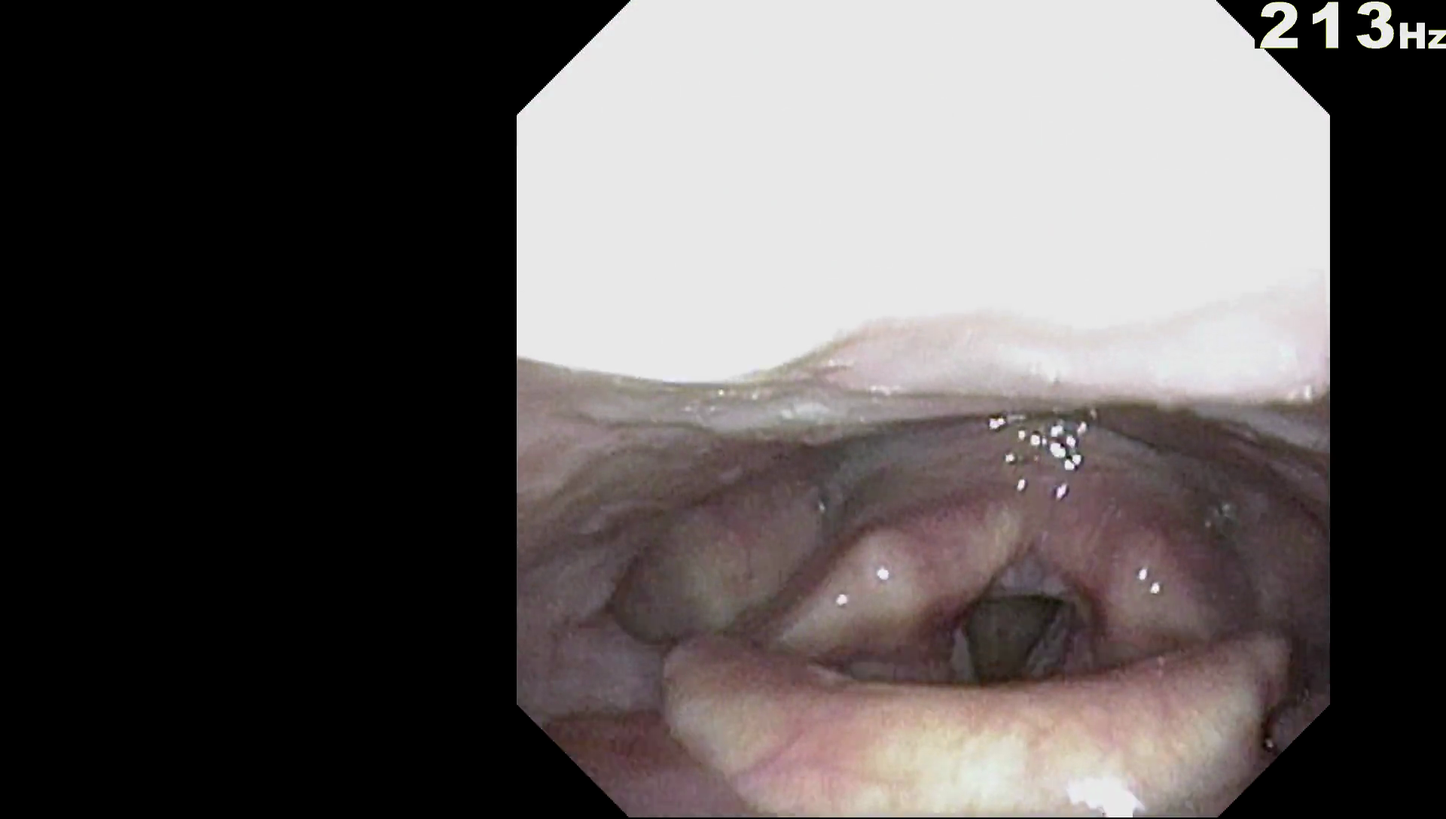trachea: (929, 567, 1092, 712)
